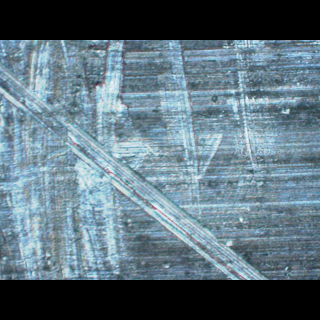d: (0, 41, 126, 280), (154, 41, 290, 205), (142, 191, 276, 280)
